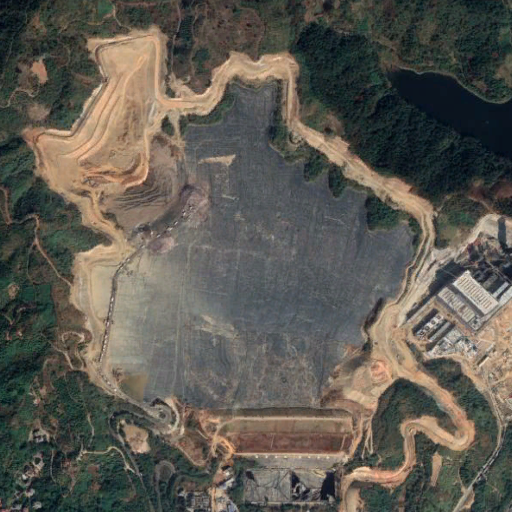lf: (98, 77, 420, 406)
